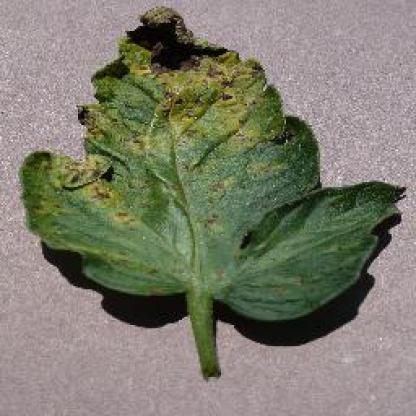bad leaf: (14, 1, 415, 378)
